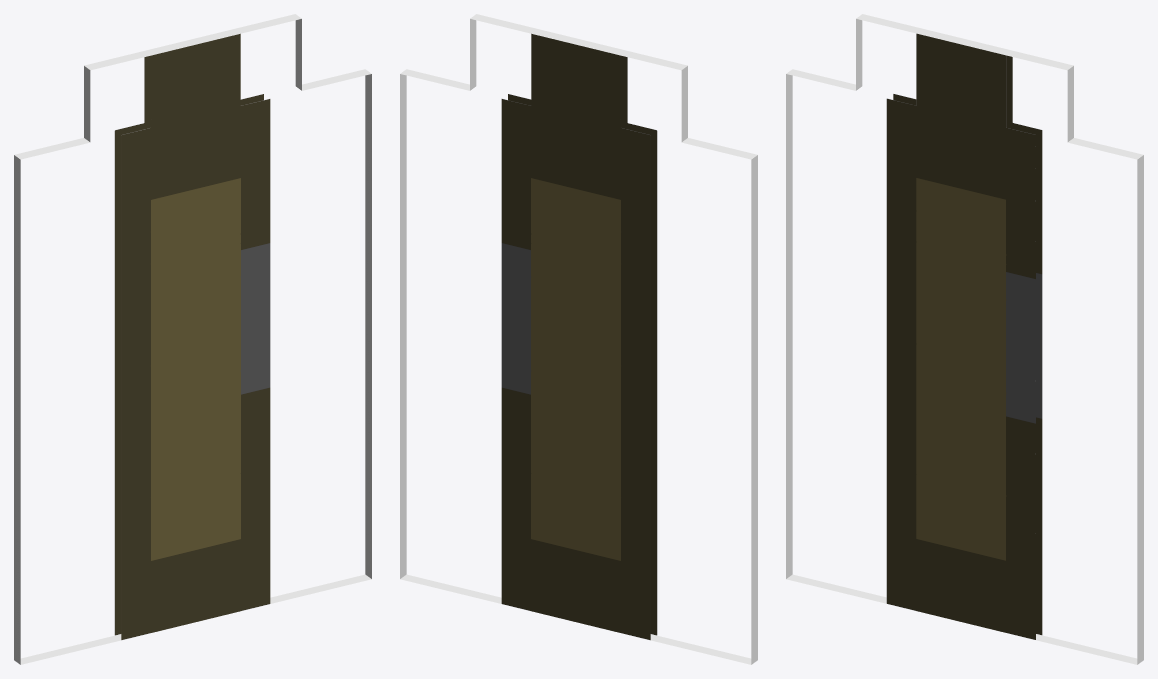
File: Door.dae
3 renders of one model, left to right at view 1: azimuth 30°, elevation 25°; view 2: azimuth 150°, elevation 25°; view 3: azimuth 330°, elevation 25°, orthographic.
Visible parts, largest first — view 1: Door; view 2: Door; view 3: Door.
Part boxes in pixels (bbox=[...]): Door: bbox=[14, 14, 371, 664]; Door: bbox=[400, 14, 757, 664]; Door: bbox=[786, 14, 1143, 664].
Bounding box in the file's own units: 382 × 600 × 12.3.
Materials: 3 (3 with a texture image).
